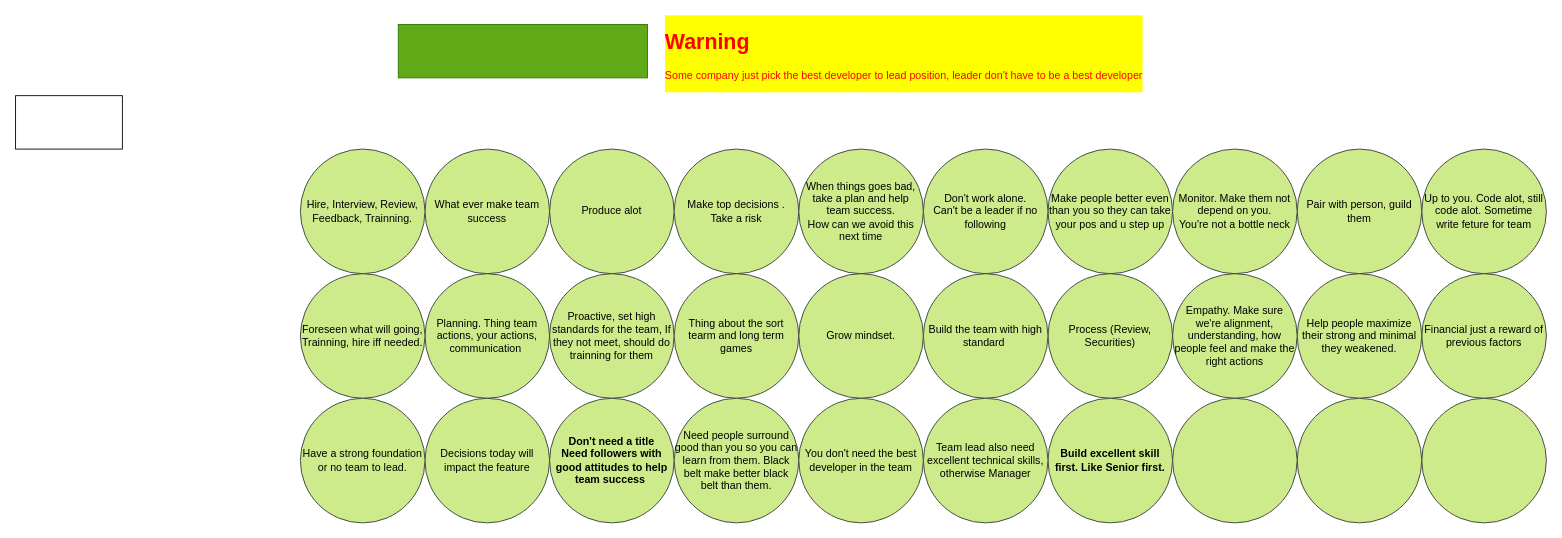
The diagram is 1562 pixels wide and 538 high, and some of its shapes have lost their labels. The shapes that lost their labels are listed below. From the top down, each one's centre as x and y in pixels, then its label:
At point (522, 51): "Team Success".
At point (68, 122): "Strong Technical".
